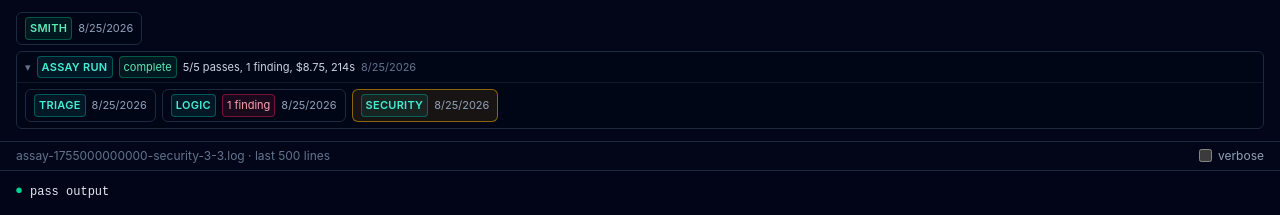
Scenario: BeadLogsSection › folds one assay run into a single row naming each session by its pass
Expected: the tab "triage 8/25/2026" is shown, [25,89,156,122]
Expected: the tab "logic 1 finding 8/25/2026" is shown, [162,89,346,122]
# Collapsing hides the sessions but keeps the run row.
Click the button at [75, 67], box [17,52,1263,82]
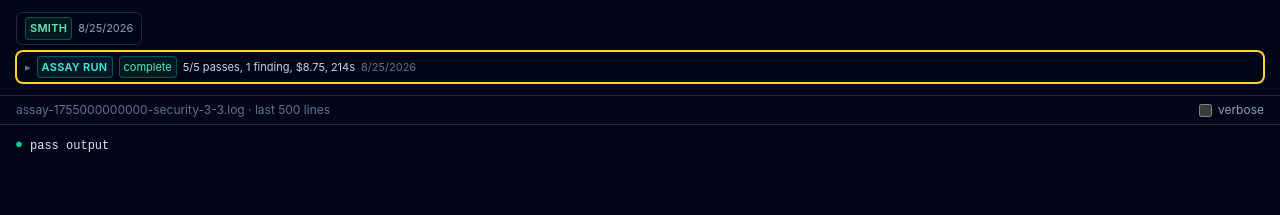
Result: the tab "triage" is gone
